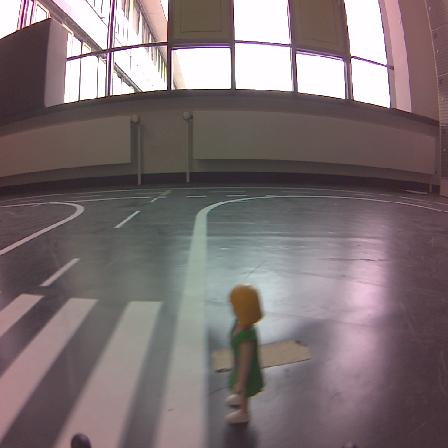PERSON: (226, 283, 263, 423)
